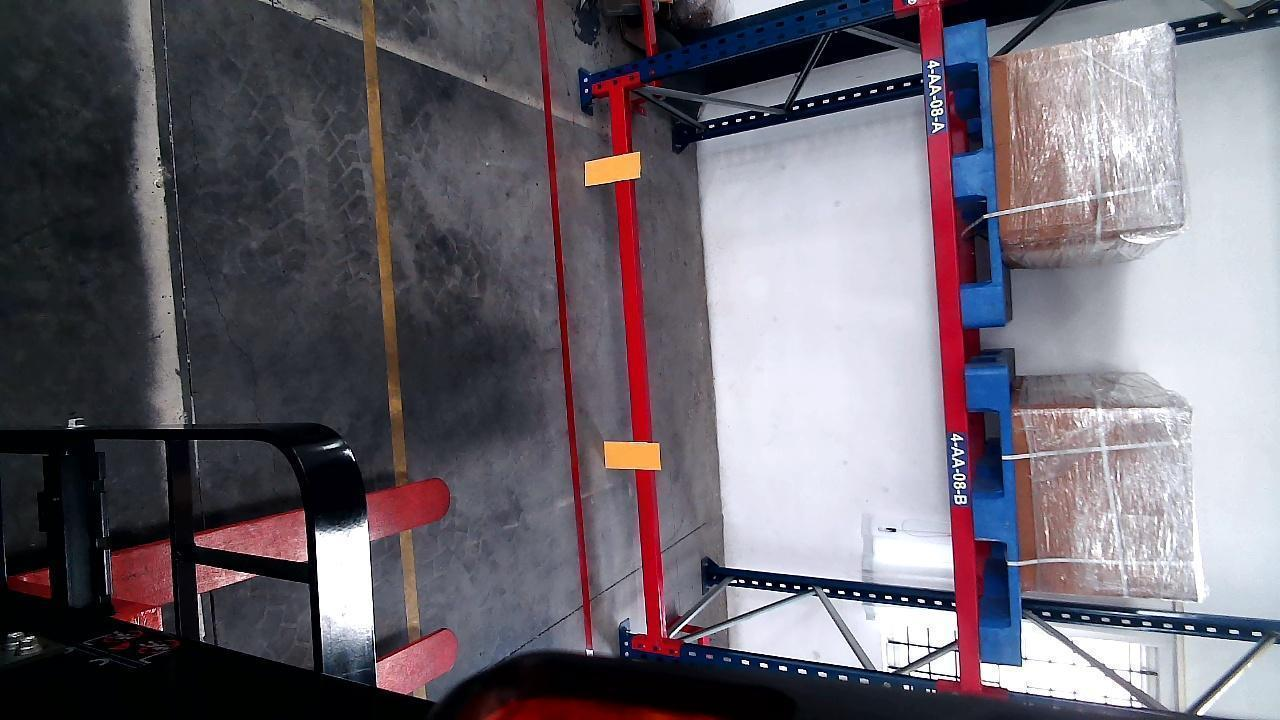red_line: (531, 4, 598, 655)
